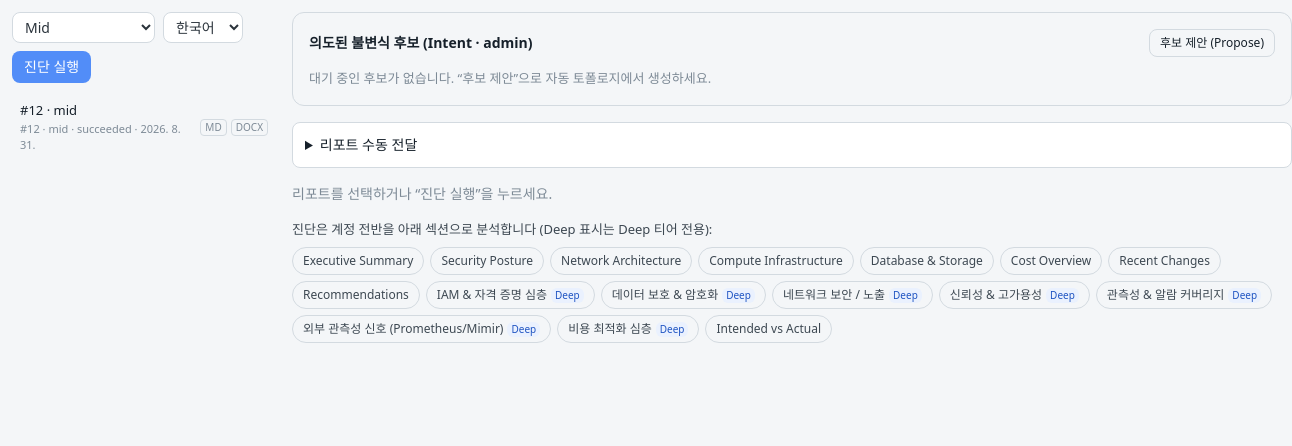
DiagnosisView — generation quick wins (L176/L177/L180/L181) › completed report shows the stats bar; 소요 omitted without finished_at
The width and height of the screenshot is (1292, 446).
Step 1. Click the button "#12 · mid #12 · mid · succeeded · 2026. 8. 31." → x=104, y=127, box [12,95,196,160]
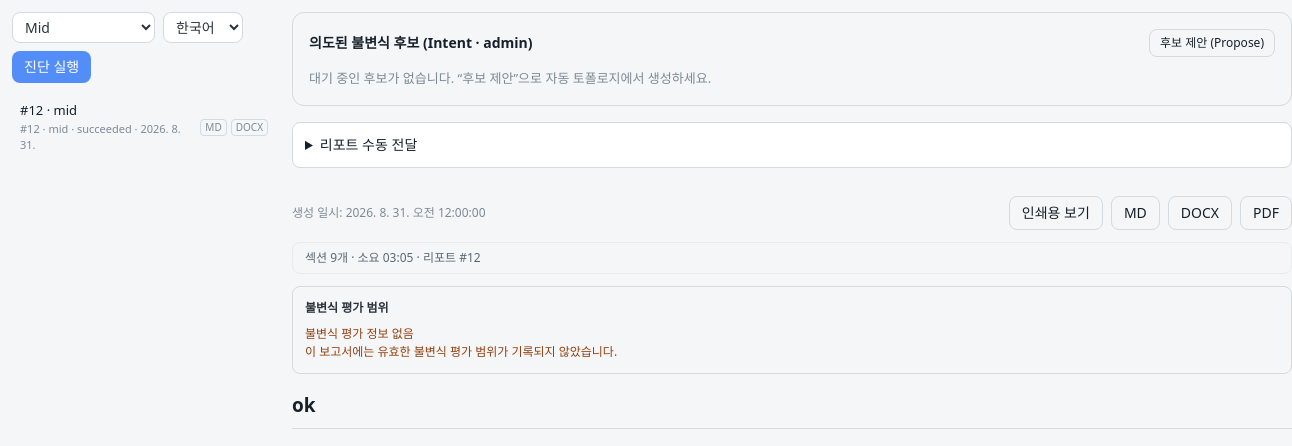
Result: the text "섹션 9개 · 소요 03:05 · 리포트 #12" is shown at [292,242,1291,274]
